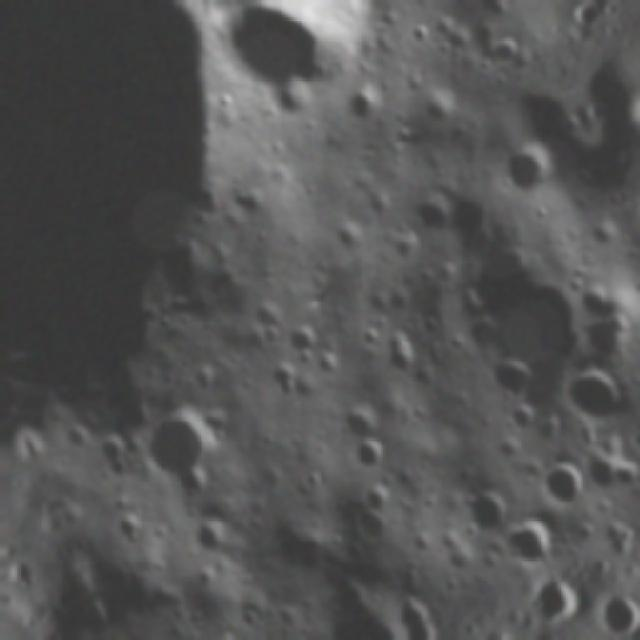crater: (416, 207, 610, 430), (199, 0, 400, 115), (112, 386, 240, 514), (467, 340, 547, 422), (553, 358, 630, 440), (491, 137, 562, 214), (568, 438, 637, 512), (494, 512, 564, 583), (336, 490, 399, 559), (334, 431, 401, 494), (532, 456, 594, 522), (327, 389, 385, 456), (374, 329, 434, 391), (458, 486, 516, 548), (82, 427, 140, 488), (332, 79, 390, 133), (174, 519, 234, 570), (377, 588, 437, 638), (86, 577, 131, 640), (17, 418, 55, 474), (198, 627, 252, 640)
